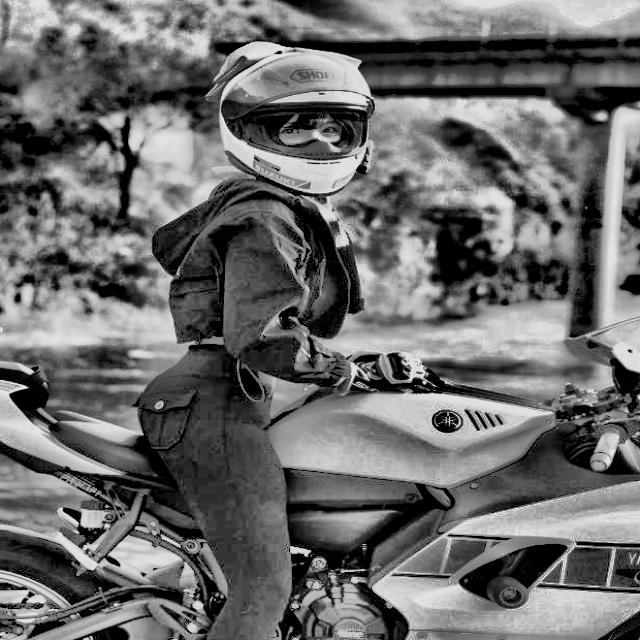Helmet: (212, 46, 382, 204)
